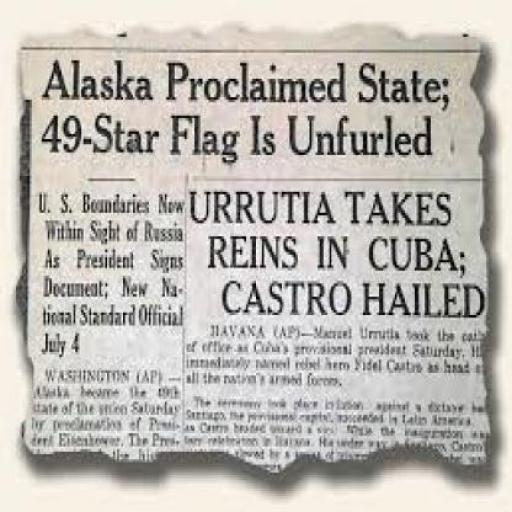paper: (34, 42, 471, 449)
